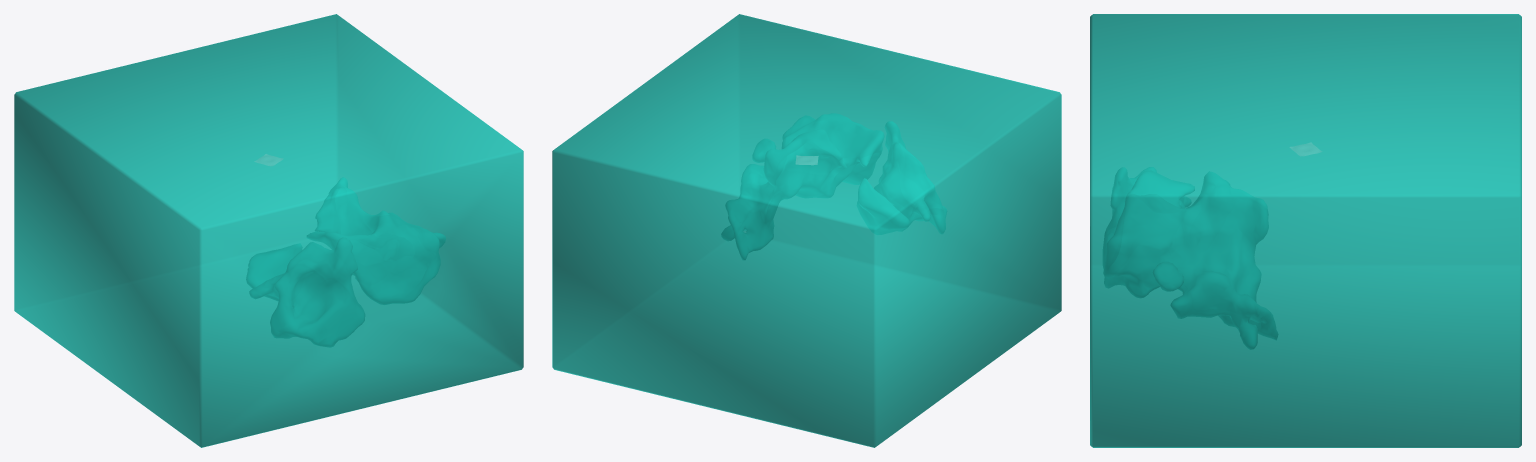
3 renders of one model, left to right at view 1: azimuth 30°, elevation 25°; view 2: azimuth 150°, elevation 25°; view 3: azimuth 270°, elevation 25°, orthographic. The views are drawn at different scales.
Visible parts, largest first — view 1: Liquid_Domain; view 2: Liquid_Domain; view 3: Liquid_Domain.
Boxes of the visible parts, left/top/right/bottom form: Liquid_Domain: left=14, top=14, right=523, bottom=447; Liquid_Domain: left=552, top=14, right=1061, bottom=447; Liquid_Domain: left=1090, top=14, right=1521, bottom=447.
Bounding box in the file's own units: 391 × 254 × 391.
